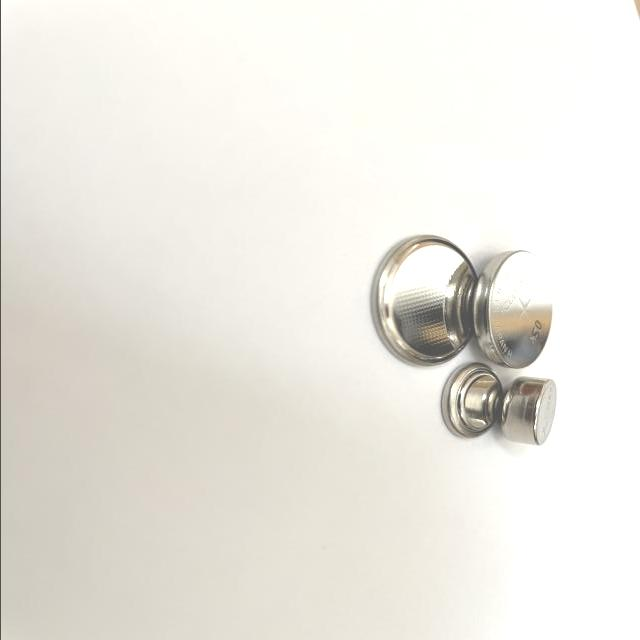COIN: (364, 228, 482, 368), (472, 249, 554, 372), (436, 362, 505, 439), (492, 376, 558, 446)
